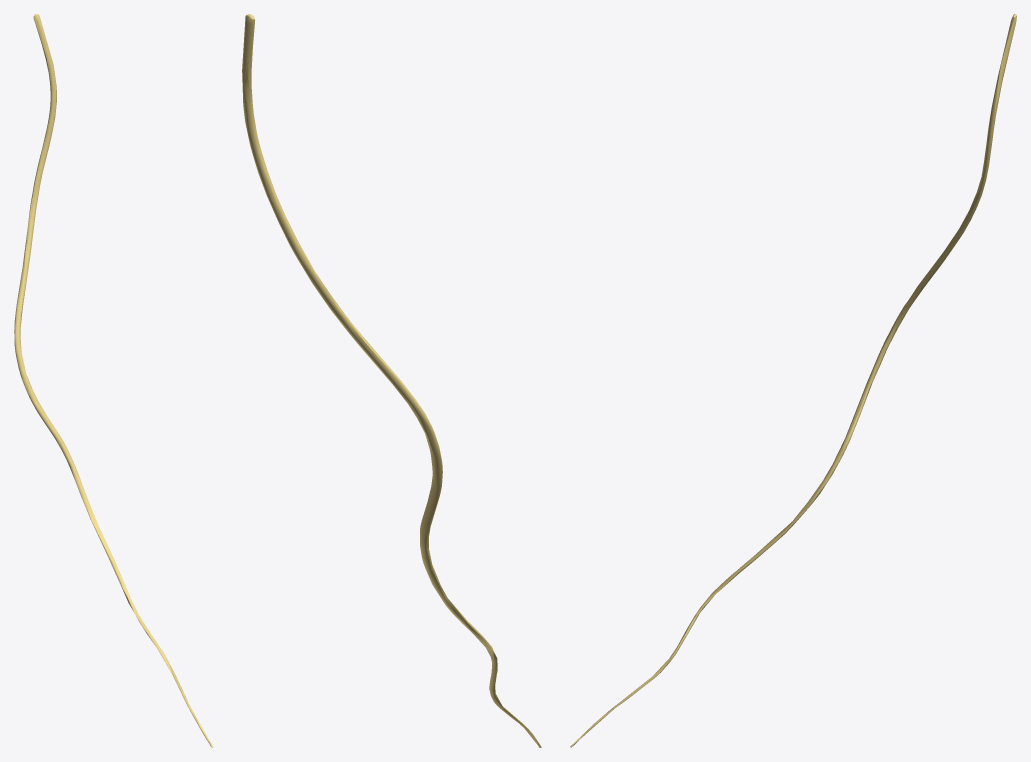
File: fma44997_fj4268.glb
3 renders of one model, left to right at view 1: azimuth 30°, elevation 25°; view 2: azimuth 150°, elevation 25°; view 3: azimuth 270°, elevation 25°, orthographic. The views are drawn at different scales.
Parts seen in each view (by area): view 1: FMA44997_FJ4268; view 2: FMA44997_FJ4268; view 3: FMA44997_FJ4268.
Boxes of the visible parts, x1,y1,x2,y2 form: FMA44997_FJ4268: (14, 14, 213, 747); FMA44997_FJ4268: (242, 14, 541, 747); FMA44997_FJ4268: (570, 14, 1016, 747).
Bounding box in the file's own units: 0.0198 × 0.1395 × 0.0768.
